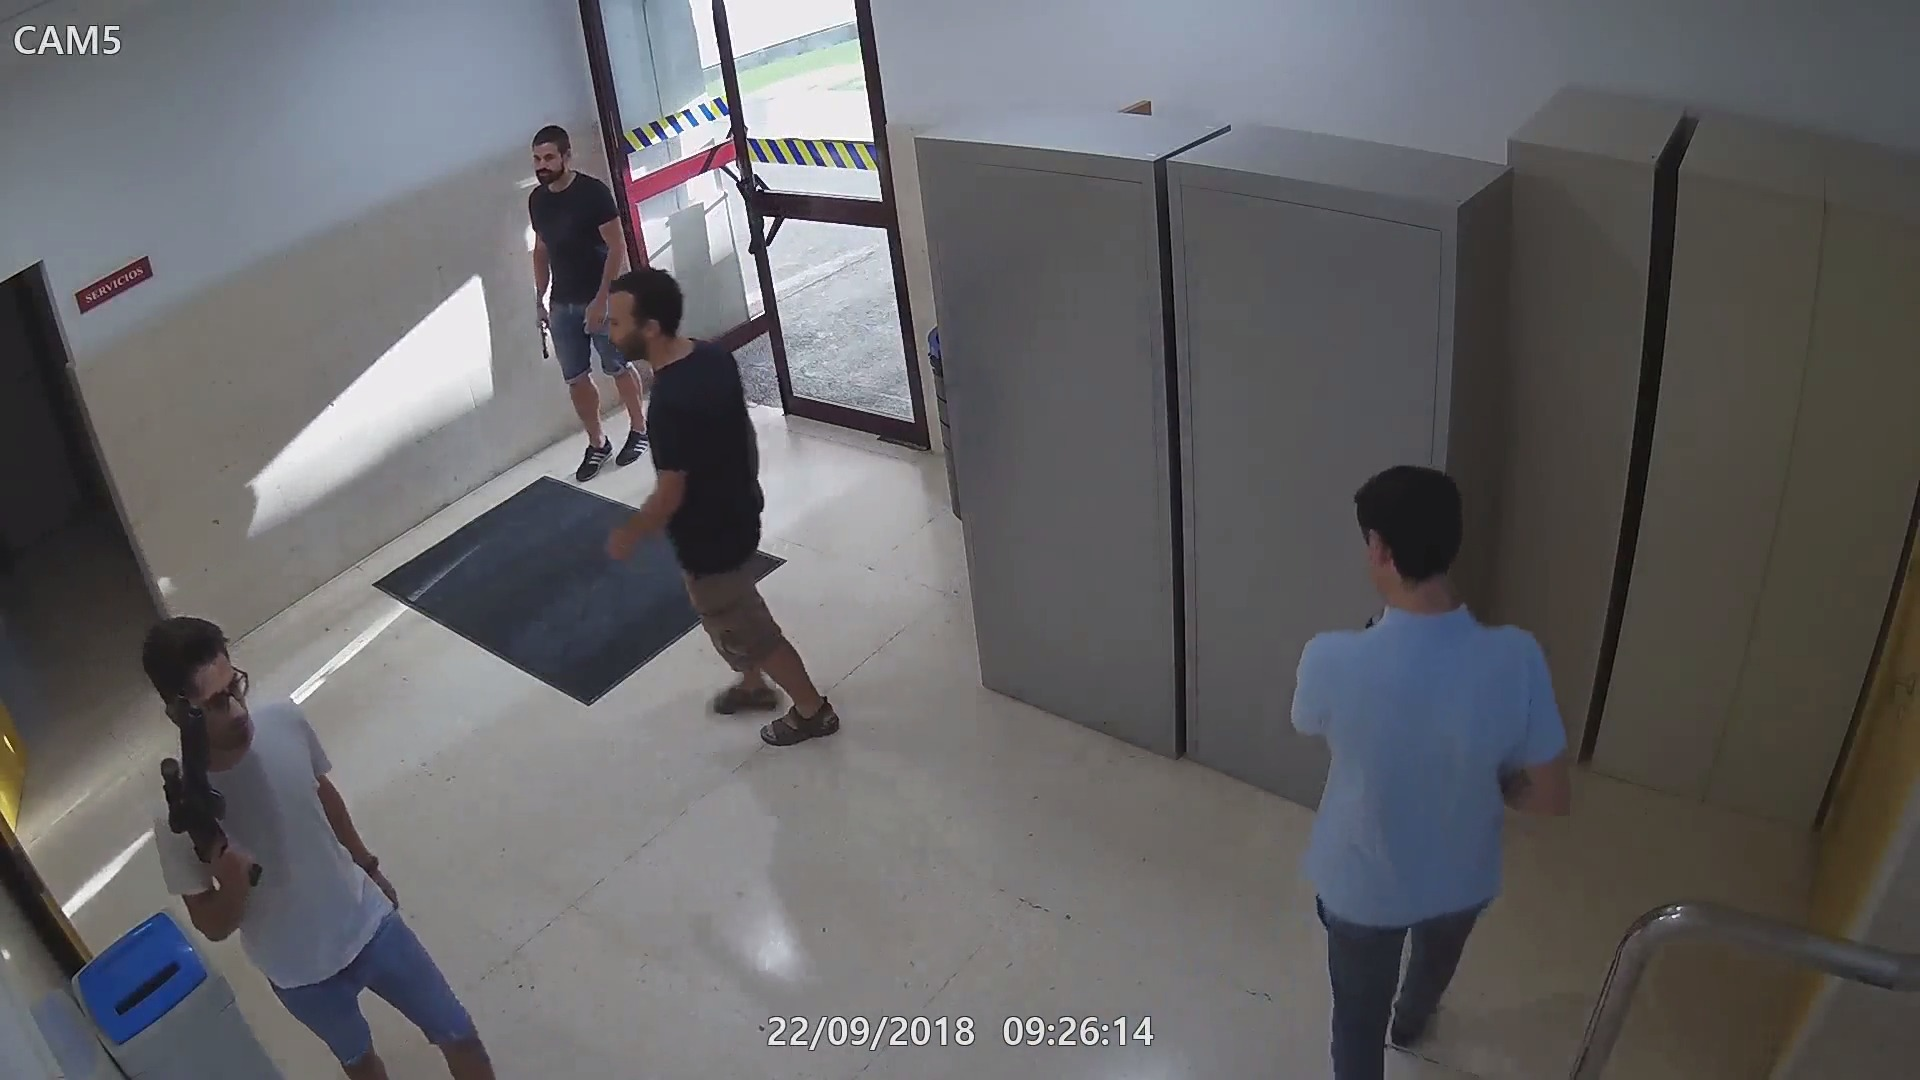Handgun: (527, 302, 555, 363)
Short_rifle: (150, 692, 268, 894)
